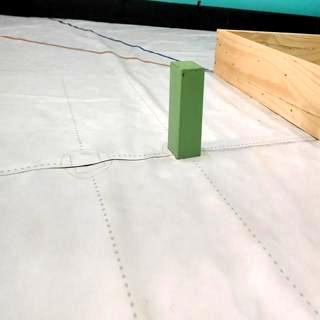greenbox: (167, 58, 204, 160)
